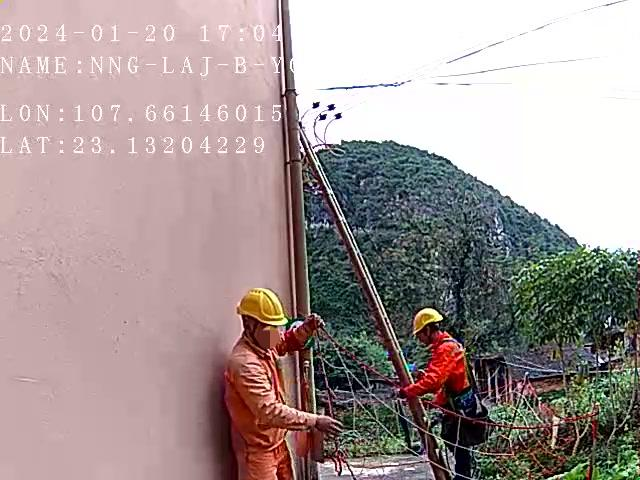halt: (237, 291, 289, 350), (414, 311, 447, 348)
inear: (243, 318, 265, 342)
